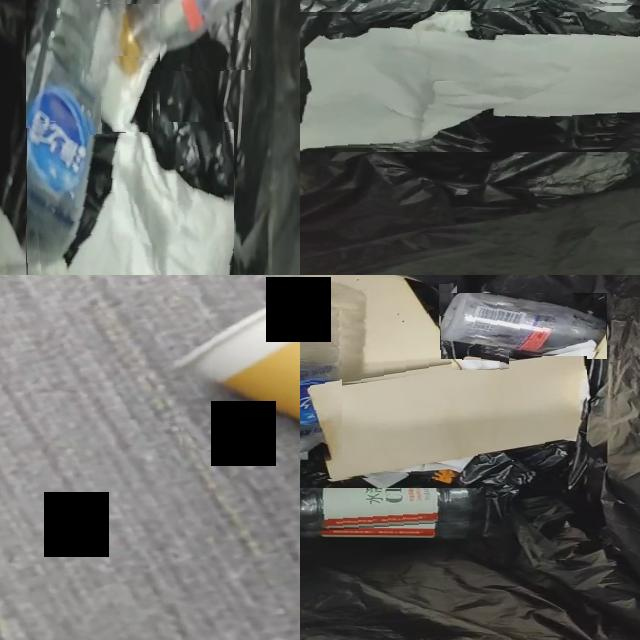bottle: (442, 293, 606, 356), (121, 0, 244, 72), (300, 488, 486, 532), (300, 307, 342, 457)
carton: (307, 356, 587, 479), (300, 275, 457, 385)
dixie_cup: (179, 290, 300, 423)
paper: (300, 12, 640, 151), (0, 0, 127, 275), (46, 122, 234, 275), (85, 4, 160, 133), (101, 57, 153, 132), (362, 460, 469, 489), (452, 348, 509, 370)
